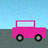vehicle: (12, 20, 46, 41)
